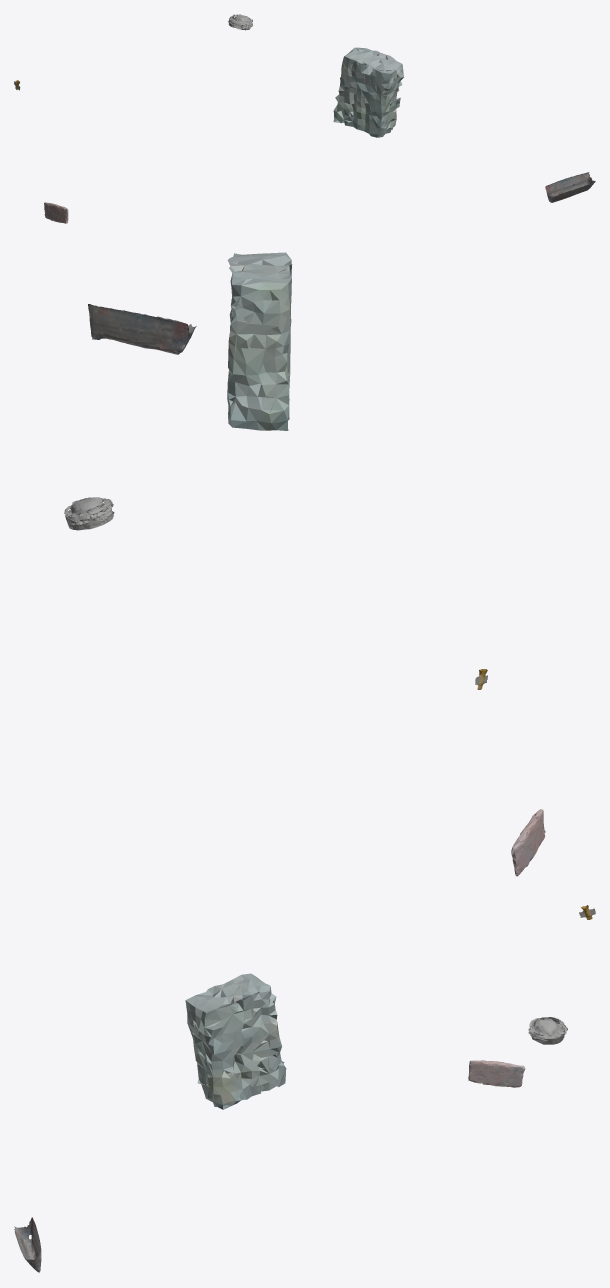
The model's file is models-1-0.glb.
3 renders of one model, top to bottom at view 1: azimuth 30°, elevation 25°; view 2: azimuth 150°, elevation 25°; view 3: azimuth 270°, elevation 25°, orthographic. The views are drawn at different scales.
Visible parts, largest first — view 1: obj-1-616, obj-1-514, obj-1-1406, obj-1-509; view 2: obj-1-616, obj-1-514, obj-1-509, obj-1-1406; view 3: obj-1-616, obj-1-1406, obj-1-514, obj-1-509.
Boxes of the visible parts, x1,y1,x2,y2 form: obj-1-616: (333, 47, 403, 137); obj-1-514: (545, 172, 595, 202); obj-1-1406: (44, 202, 68, 223); obj-1-509: (228, 14, 252, 30); obj-1-616: (227, 252, 292, 430); obj-1-514: (88, 304, 196, 354); obj-1-509: (64, 497, 114, 530); obj-1-1406: (511, 809, 545, 876); obj-1-616: (185, 973, 286, 1109); obj-1-1406: (468, 1060, 525, 1087); obj-1-514: (14, 1217, 41, 1272); obj-1-509: (528, 1017, 567, 1044).
Size of the model in its own units: 9.01 by 3.97 by 8.03.
